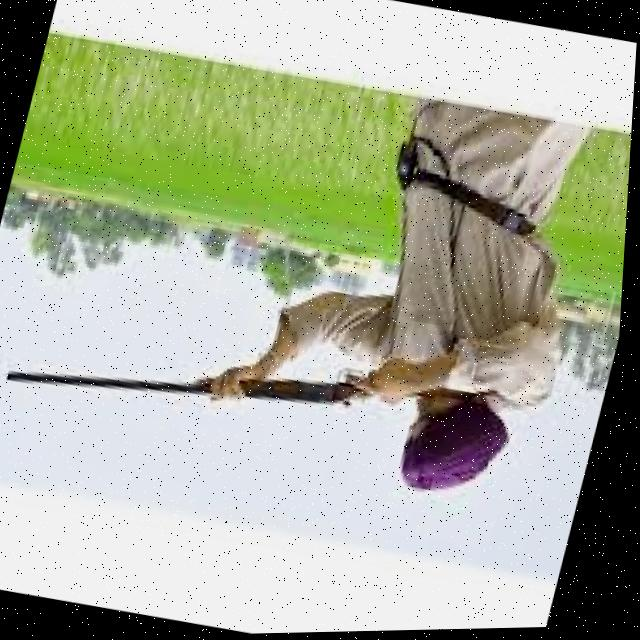firearm: (4, 298, 507, 474)
